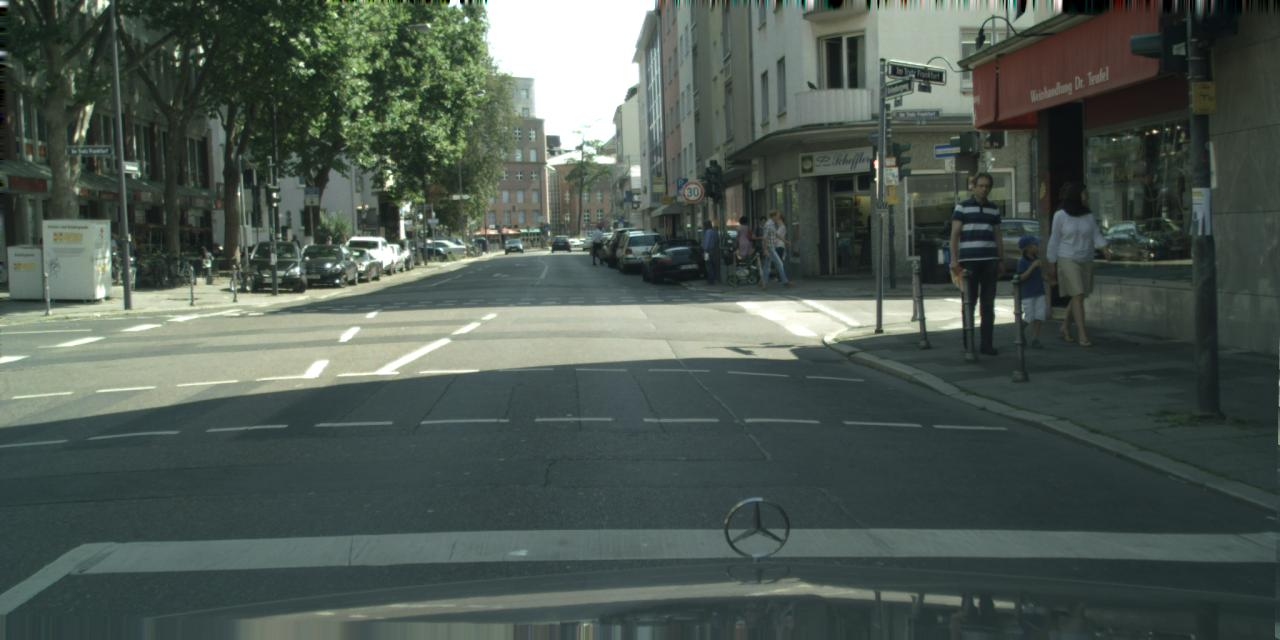ped: (941, 172, 1016, 352), (1044, 185, 1108, 342), (1005, 234, 1051, 346), (759, 210, 790, 288), (764, 216, 791, 282), (695, 220, 721, 284), (731, 216, 756, 276), (751, 216, 776, 276), (101, 235, 120, 282), (197, 245, 211, 281), (288, 233, 302, 268), (322, 235, 333, 264), (652, 228, 662, 250), (344, 235, 354, 244)
